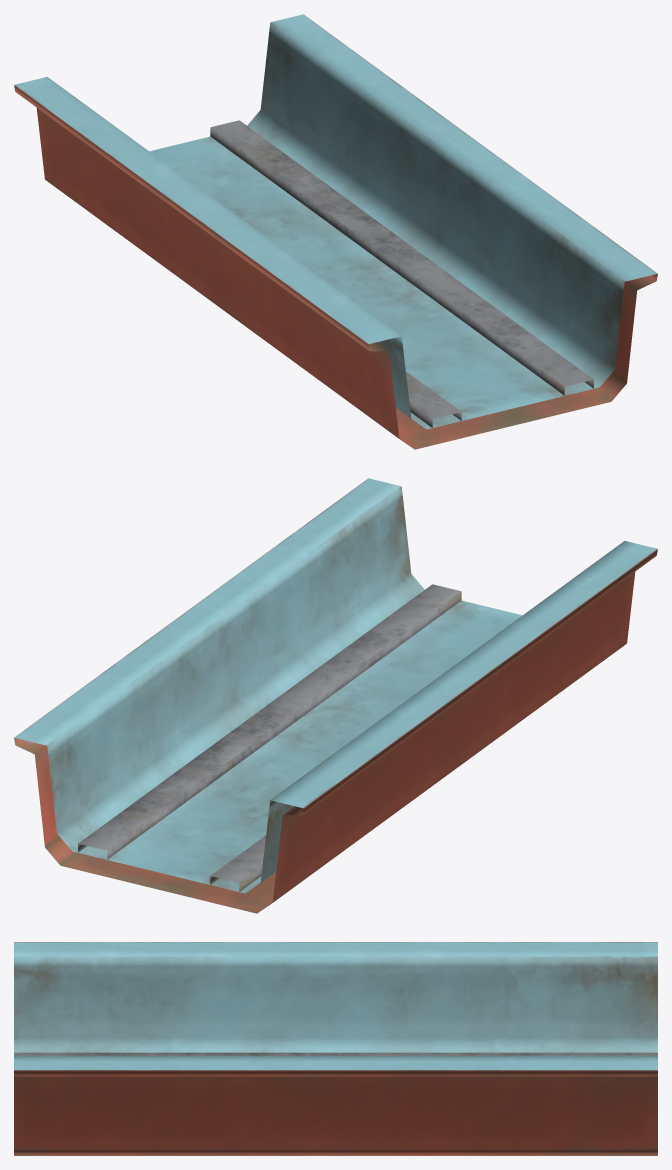
Rendered from log_ride_trough.glb.
3 renders of one model, top to bottom at view 1: azimuth 30°, elevation 25°; view 2: azimuth 150°, elevation 25°; view 3: azimuth 270°, elevation 25°, orthographic. The views are drawn at different scales.
Visible parts, largest first — view 1: SM_Log_Track; view 2: SM_Log_Track; view 3: SM_Log_Track.
Part boxes in pixels (box(x1,y1,x2,y2)): SM_Log_Track: box(14, 14, 657, 449); SM_Log_Track: box(14, 478, 657, 913); SM_Log_Track: box(14, 942, 657, 1155).
Bounding box in the file's own units: 1.27 × 0.4905 × 2.7.
1 material, 1 textured.
